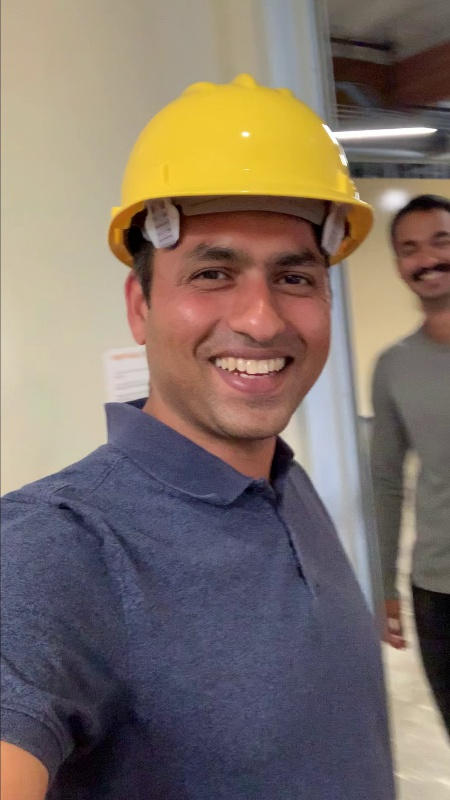helmet: (95, 76, 374, 217)
